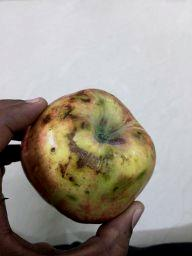Apple Overripe: (19, 92, 162, 224)
